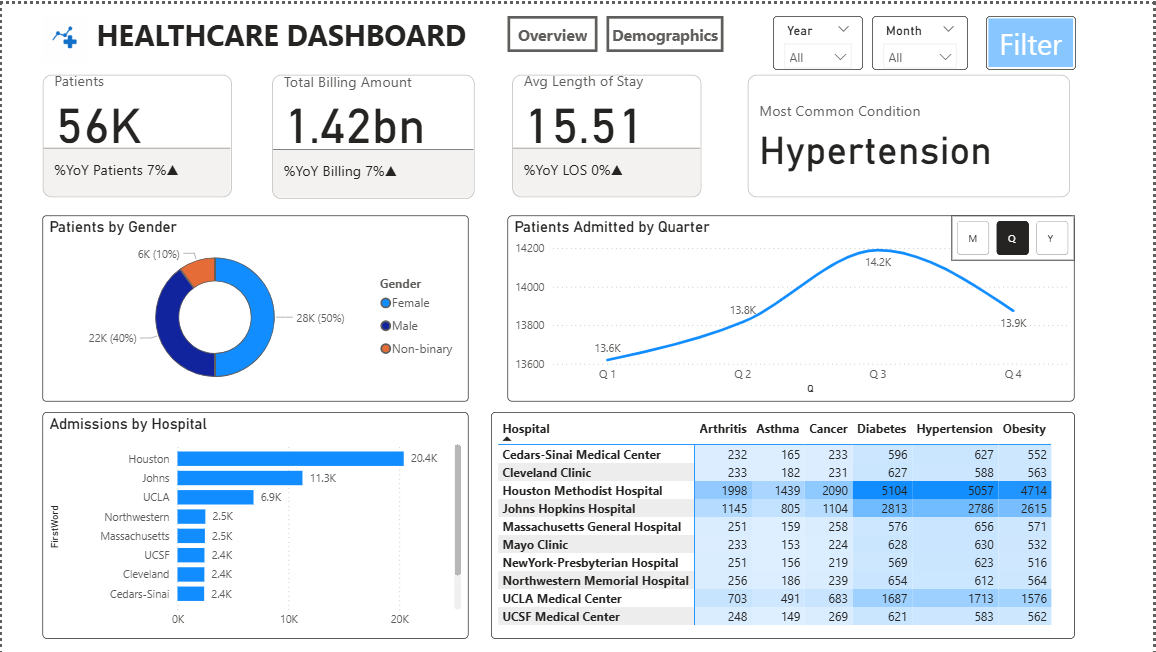

Layout of this report page (visuals, bound fields, positions):
{"tool":"powerbi","page":{"name":"Page 1","canvas":[1280,720],"ordinal":0},"visuals":[{"type":"cardVisual","fields":{"Data":["DAX Measures.Patients"]},"box":[40,73.3,220,146.7],"z":0},{"type":"cardVisual","fields":{"Data":["DAX Measures.Total Billing Amount"]},"box":[295,73.3,235,148.3],"z":1000},{"type":"cardVisual","fields":{"Data":["DAX Measures.Avg Length of Stay"]},"box":[561.7,73.3,220,146.7],"z":2000},{"type":"cardVisual","fields":{"Data":["DAX Measures.Most Common Condition"]},"box":[823.3,73.3,368.3,146.7],"z":3000},{"type":"slicer","fields":{"Values":["DateTable.Year"]},"box":[856.7,13.3,100,60],"z":4000},{"type":"slicer","fields":{"Values":["DateTable.Month"]},"box":[966.7,13.3,106.7,60],"z":5000},{"type":"donutChart","fields":{"Y":["DAX Measures.Patients"],"Category":["Dim Patient.Gender"]},"box":[45,235,473.3,206.7],"z":6000},{"type":"lineChart","fields":{"Category":["DateTable.Quarter"],"Y":["DAX Measures.Patients"]},"box":[561.7,235,630,206.7],"z":7000},{"type":"advancedSlicerVisual","fields":{"Values":["Parameter.Parameter"]},"box":[1055,235,136.7,50],"z":8000},{"type":"barChart","title":"Admissions by Hospital","fields":{"Y":["DAX Measures.Patients"],"Category":["Fact Hospital.FirstWord"]},"box":[45,453.3,473.3,251.7],"z":9000},{"type":"pivotTable","fields":{"Columns":["Dim Patient.Medical Condition"],"Rows":["Fact Hospital.Hospital"],"Values":["DAX Measures.Patients"]},"box":[543.3,453.3,648.3,251.7],"z":10000},{"type":"actionButton","title":"Filter","box":[1092.5,12.5,100,60],"z":11000},{"type":"textbox","box":[100,6.7,430,66.7],"z":12000},{"type":"image","box":[38.3,1.7,61.7,71.7],"z":13000},{"type":"actionButton","box":[561.7,13.3,100,40],"z":14000},{"type":"actionButton","box":[671.4,12.9,130,40],"z":15000}]}

Visuals, with their boxes in screenshot pixels (x1, y1, x2, y2), scaled from the page's 1280x720 canvas onto the 1156x652 screenshot:
cardVisual - DAX Measures.Patients: 36 66 235 199
cardVisual - DAX Measures.Total Billing Amount: 266 66 479 201
cardVisual - DAX Measures.Avg Length of Stay: 507 66 706 199
cardVisual - DAX Measures.Most Common Condition: 744 66 1076 199
slicer - DateTable.Year: 774 12 864 66
slicer - DateTable.Month: 873 12 969 66
donutChart - DAX Measures.Patients x Dim Patient.Gender: 41 213 468 400
lineChart - DateTable.Quarter x DAX Measures.Patients: 507 213 1076 400
advancedSlicerVisual - Parameter.Parameter: 953 213 1076 258
"Admissions by Hospital" barChart: 41 410 468 638
pivotTable - Dim Patient.Medical Condition x Fact Hospital.Hospital: 491 410 1076 638
"Filter" actionButton: 987 11 1077 66
textbox: 90 6 479 66
image: 35 2 90 66
actionButton: 507 12 598 48
actionButton: 606 12 724 48
